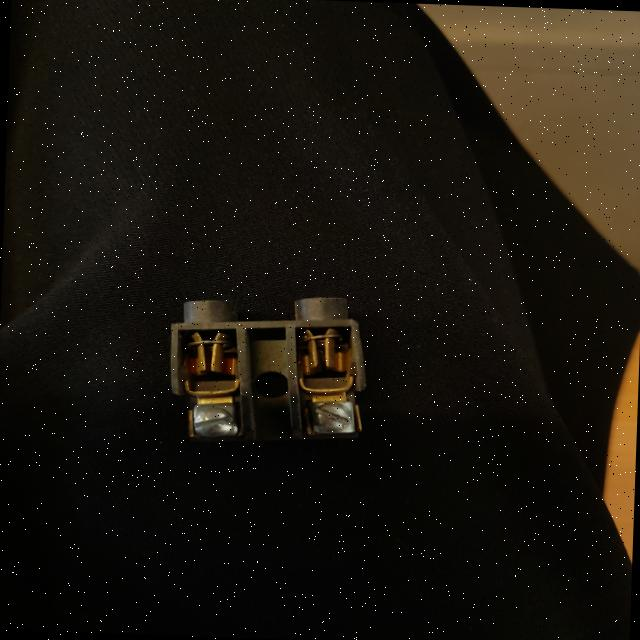Slotted: (306, 400, 354, 434), (192, 406, 236, 438)
